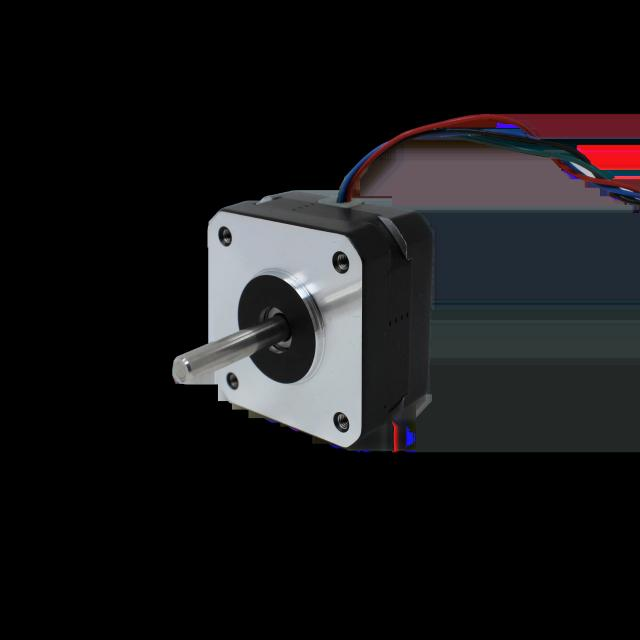motor: (172, 190, 425, 449)
